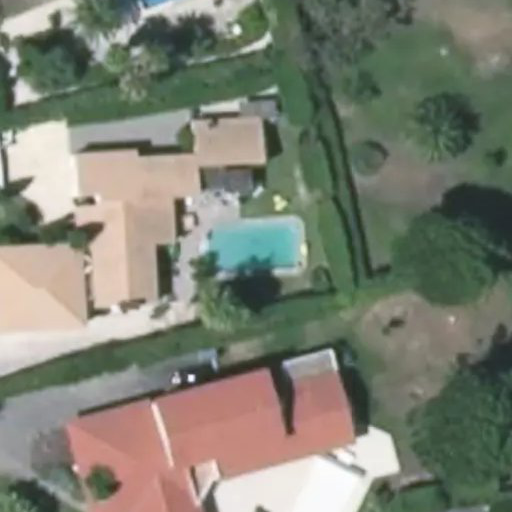pool: (209, 218, 304, 264)
